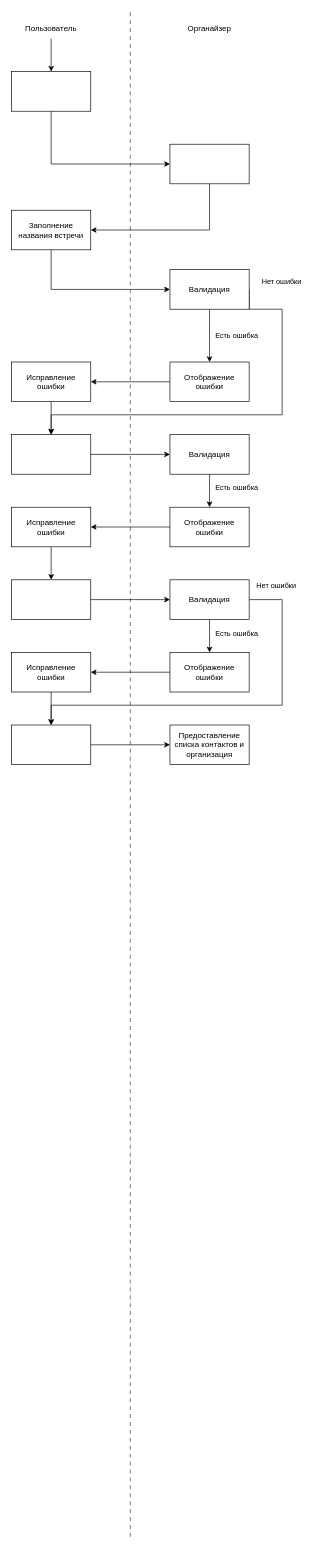
The diagram is 312 pixels wide and 1549 high, and some of its shapes have lost their labels. Here are the shapes that lost their labels. From the top down, the centre of each, then its label:
point (51, 91): Добавить встречу
point (209, 164): Открытие и отображение окна добавления встречи
point (51, 454): Заполнение времени встречи
point (51, 599): Заполнение списка напоминаний
point (51, 744): Заполнение участников встречи
